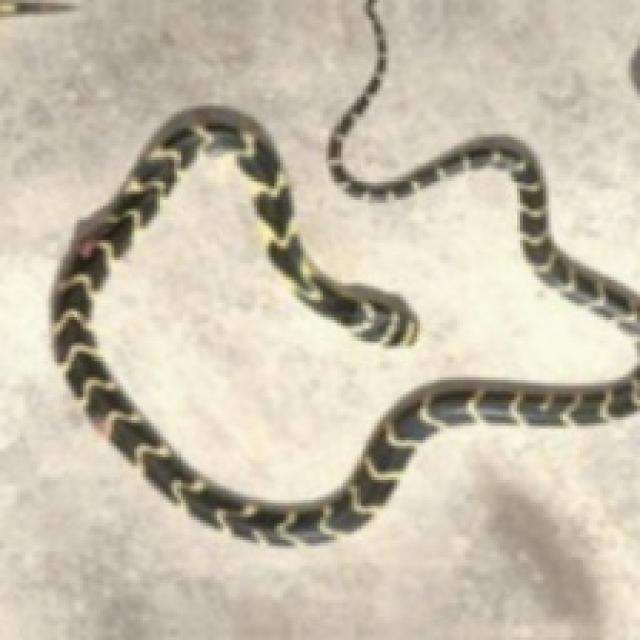king cobra: (51, 0, 637, 543), (89, 223, 377, 500)
